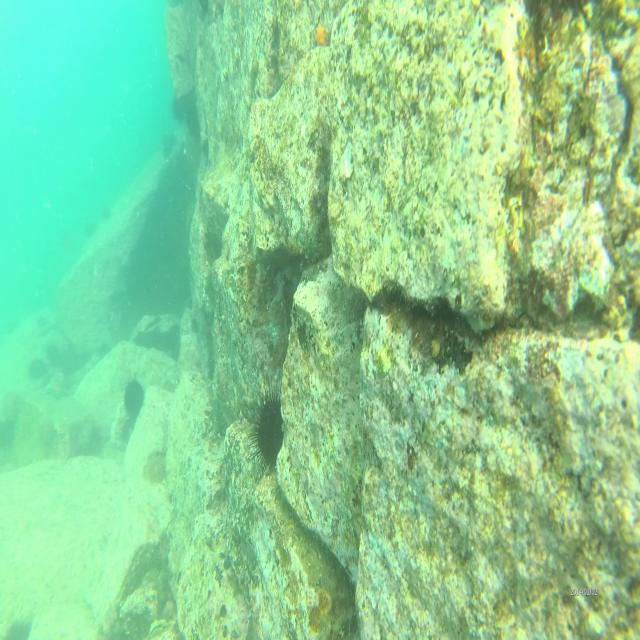echinus: (248, 383, 288, 477), (123, 376, 144, 419), (171, 93, 186, 121), (160, 133, 178, 156)
